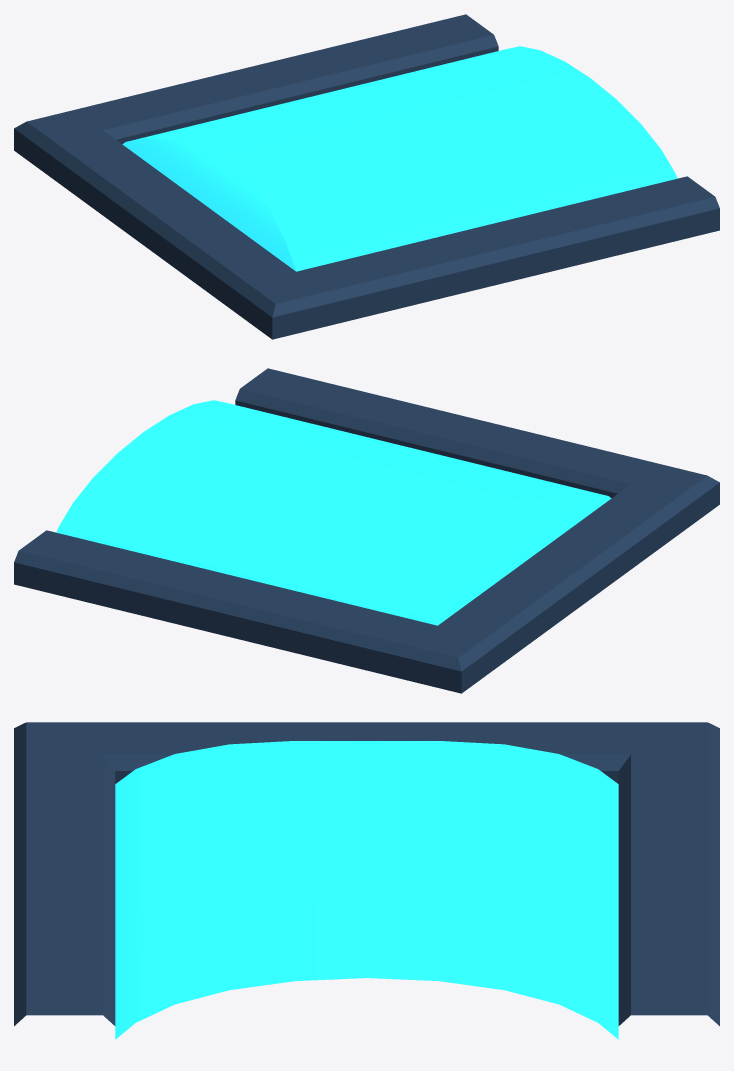
Rendered from Light_Trim_01_SquareShortEnd.glb.
3 renders of one model, top to bottom at view 1: azimuth 30°, elevation 25°; view 2: azimuth 150°, elevation 25°; view 3: azimuth 270°, elevation 25°, orthographic. The views are drawn at different scales.
Visible parts, largest first — view 1: Light_Trim_01_SquareShortEnd.001; view 2: Light_Trim_01_SquareShortEnd.001; view 3: Light_Trim_01_SquareShortEnd.001.
Part boxes in pixels (x1,y1,x2,y2): Light_Trim_01_SquareShortEnd.001: [14, 14, 719, 339]; Light_Trim_01_SquareShortEnd.001: [14, 368, 719, 693]; Light_Trim_01_SquareShortEnd.001: [14, 722, 719, 1039].
Size of the model in its own units: 0.1 by 0.0123 by 0.1.
